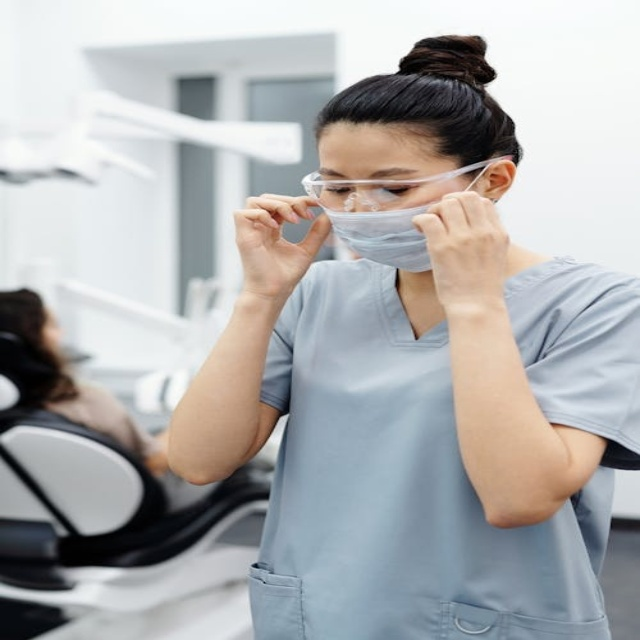Gafas: (303, 156, 510, 213)
Mascara: (308, 159, 497, 273)
Sin_guantes: (413, 189, 516, 294), (233, 192, 340, 282)
